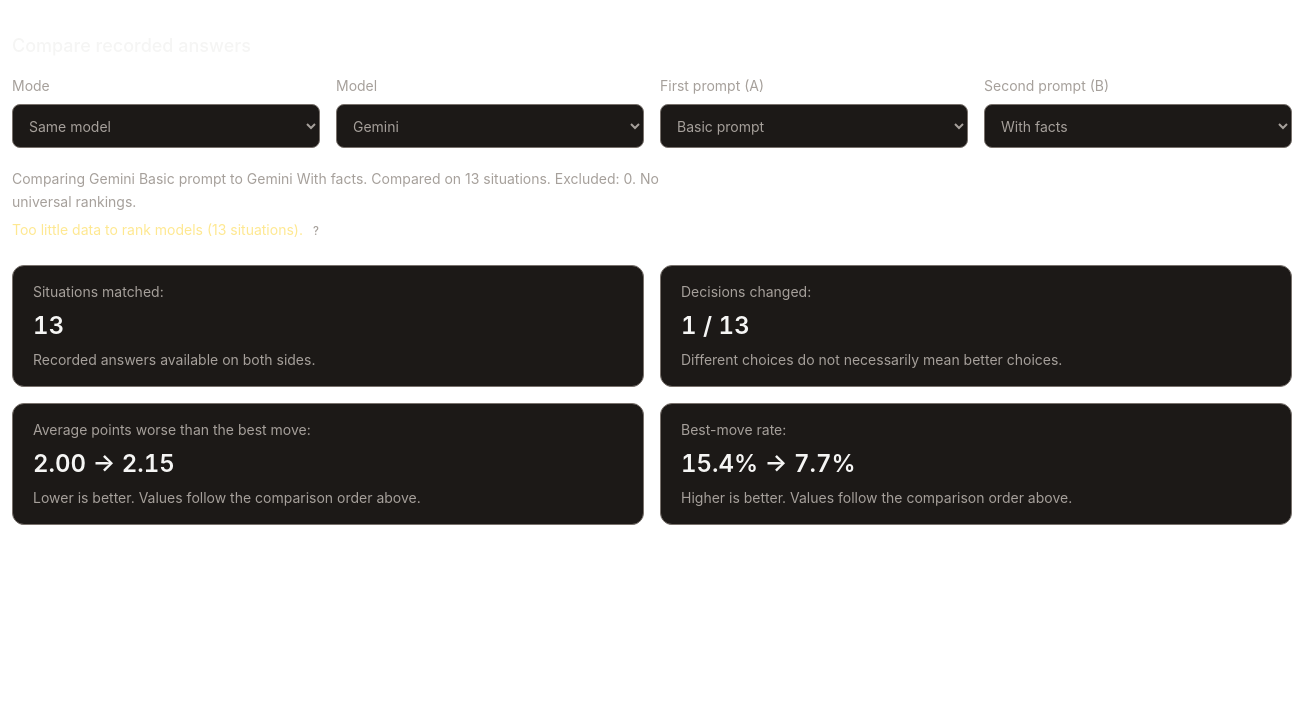
Scenario: ComparePanel self-compare › shows pick-different message and skips numbers when variants match
The width and height of the screenshot is (1304, 720).
Select "Basic prompt" in the dropdown with test id "compare-variant-b" at (1138,126), box [984,104,1292,148]
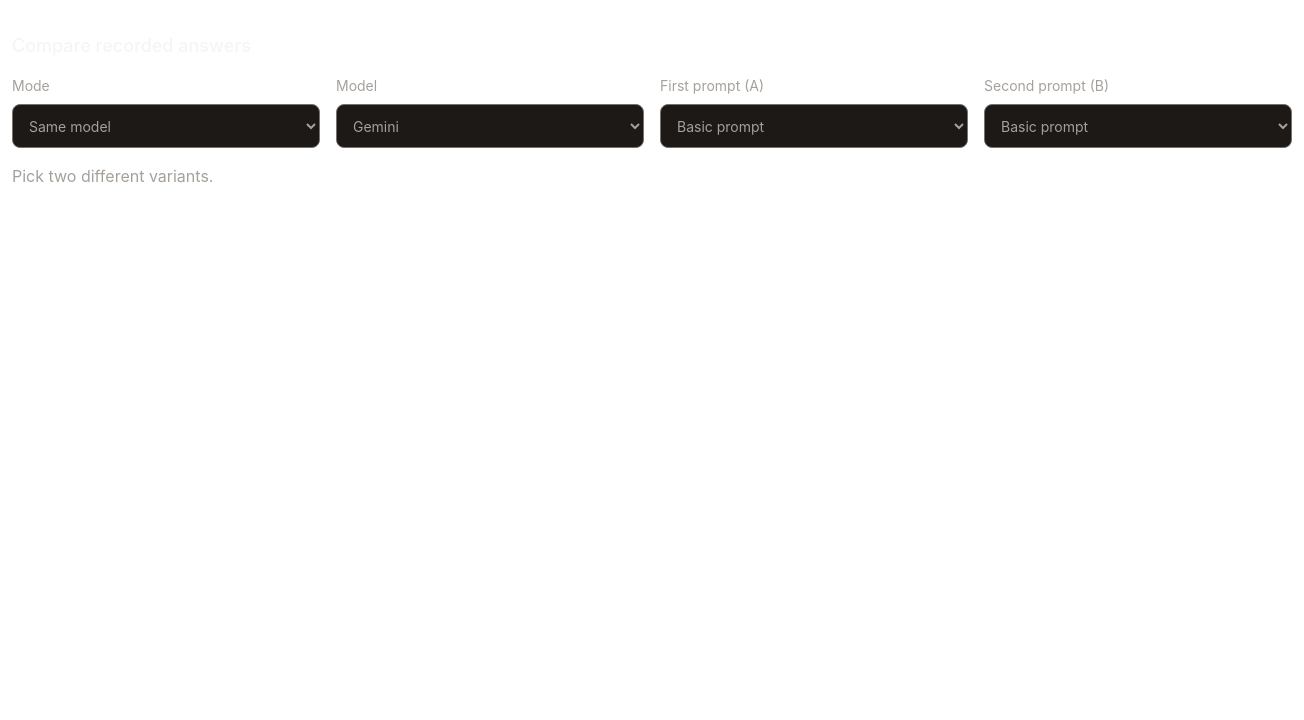
Expected: the text with test id "compare-same-variant" reads "Pick two different variants.", [12,166,213,186]
Expected: the element with test id "compare-matched" is gone
Expected: the element with test id "compare-changed" is gone
